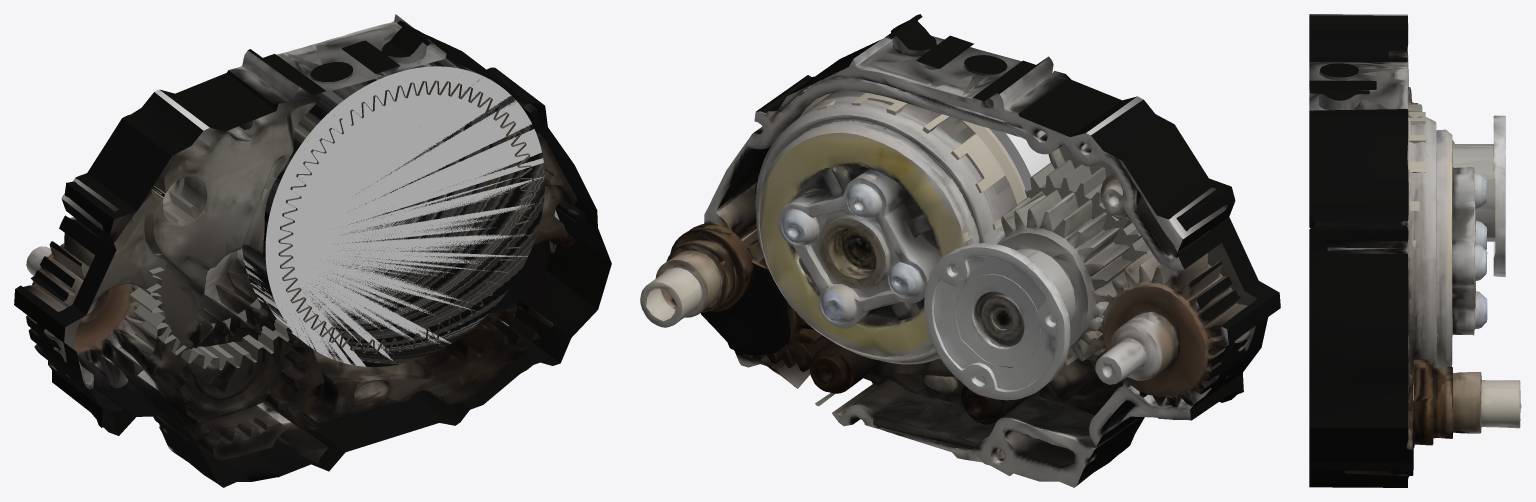
Rendered from Engine.fbx.
3 renders of one model, left to right at view 1: azimuth 30°, elevation 25°; view 2: azimuth 150°, elevation 25°; view 3: azimuth 270°, elevation 25°, orthographic. The views are drawn at different scales.
Visible parts, largest first — view 1: texture_pbr_v128, Cylinder.001, Circle, Cylinder; view 2: texture_pbr_v128, Cylinder.008, Circle, Cylinder.001; view 3: texture_pbr_v128, Cylinder.008.
Part boxes in pixels (x1,y1,x2,y2): texture_pbr_v128: (14,14,611,487); Cylinder.001: (243,66,543,366); Circle: (130,177,289,370); Cylinder: (278,80,533,353); texture_pbr_v128: (640,14,1280,487); Cylinder.008: (788,92,1026,229); Circle: (1024,160,1150,355); Cylinder.001: (939,128,1050,358); texture_pbr_v128: (1309,14,1521,487); Cylinder.008: (1408,112,1425,249).
Size of the model in its own units: 1.77 by 1.22 by 0.6103.
1 material, 1 textured.
